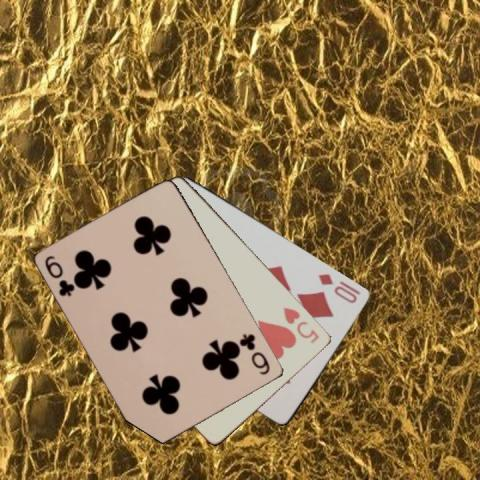10d: (316, 270, 359, 305)
5h: (280, 304, 321, 346)
6c: (237, 330, 272, 376), (42, 253, 77, 298)
